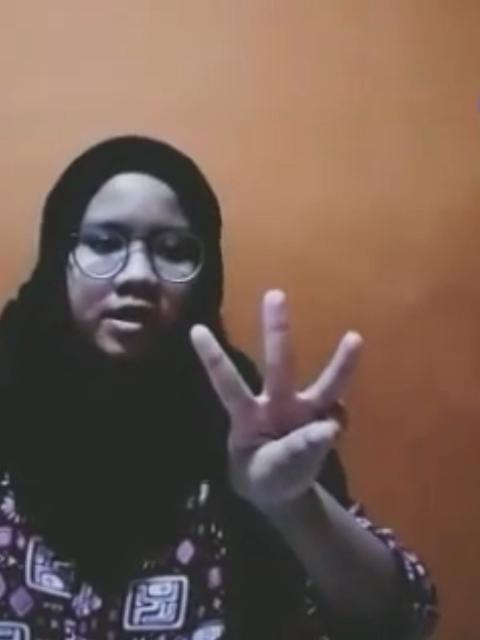W: (187, 290, 367, 520)
